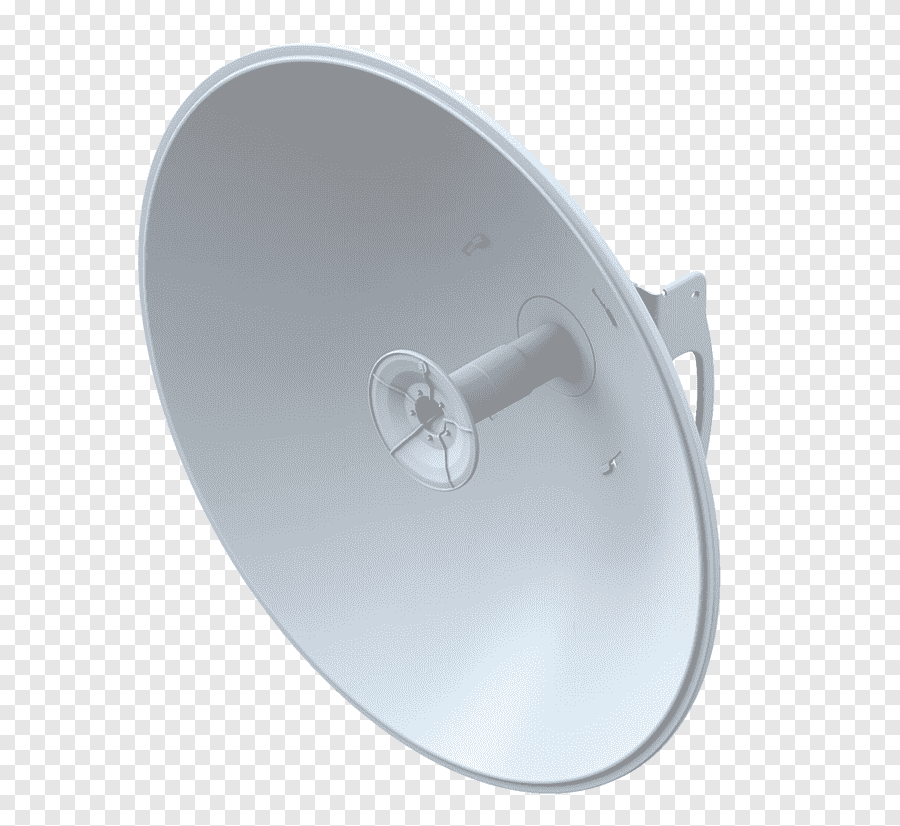ba: (68, 33, 779, 820)
